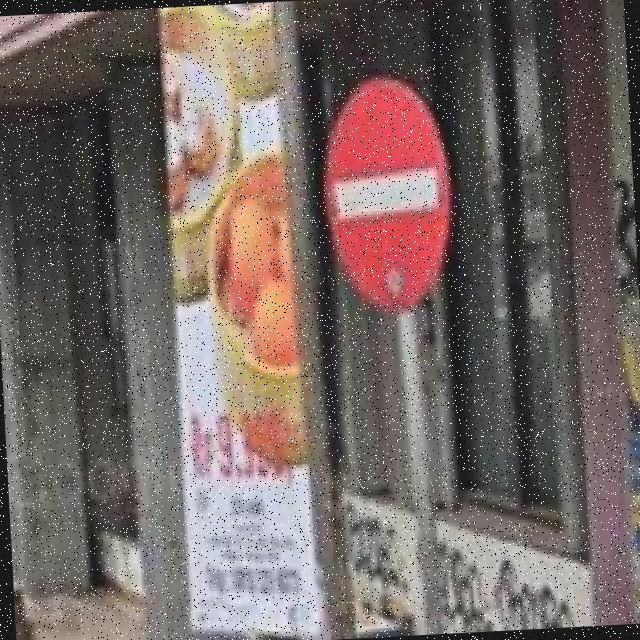Zakaz wjazdu: (318, 74, 456, 316)
